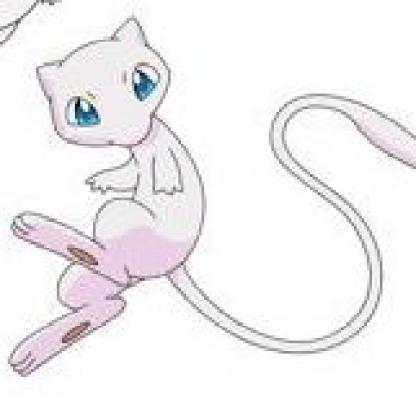Mew: (1, 6, 415, 415)
